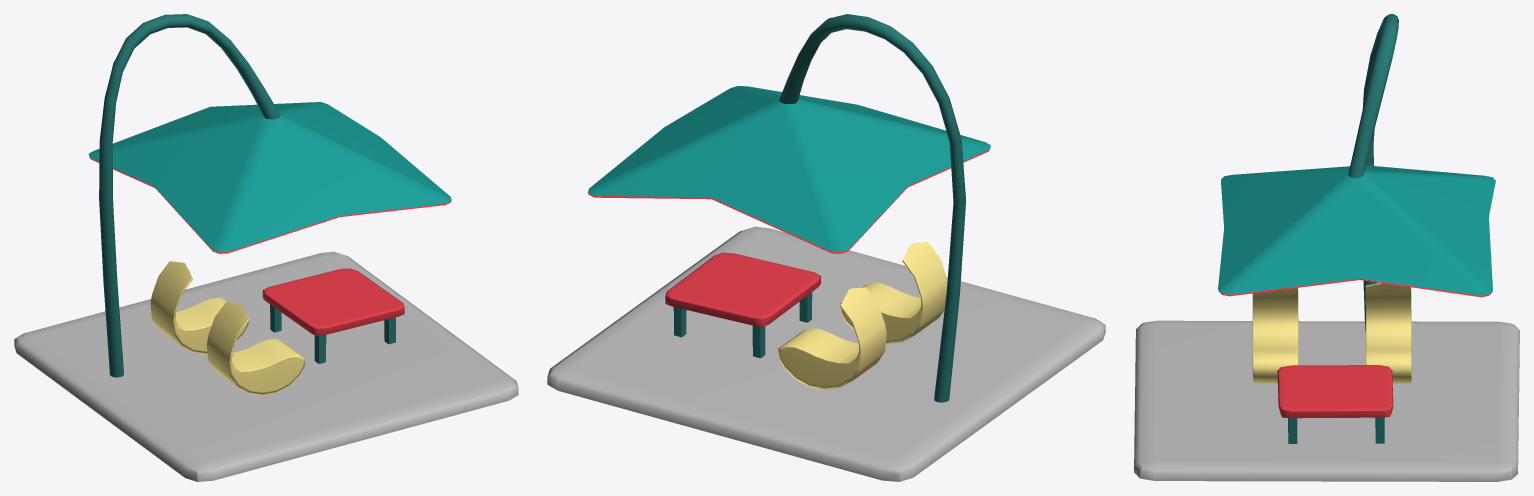
The model's file is SM_Umbrella10.fbx.
3 views of the same model, side by side, from view 1: azimuth 30°, elevation 25°; view 2: azimuth 150°, elevation 25°; view 3: azimuth 270°, elevation 25° (orthographic). The views are drawn at different scales.
Parts seen in each view (by area): view 1: SM_Umbrella10; view 2: SM_Umbrella10; view 3: SM_Umbrella10.
Boxes of the visible parts, x1,y1,x2,y2 form: SM_Umbrella10: (14, 14, 518, 481); SM_Umbrella10: (547, 14, 1105, 481); SM_Umbrella10: (1134, 14, 1519, 481).
Size of the model in its own units: 524 by 533 by 524.
